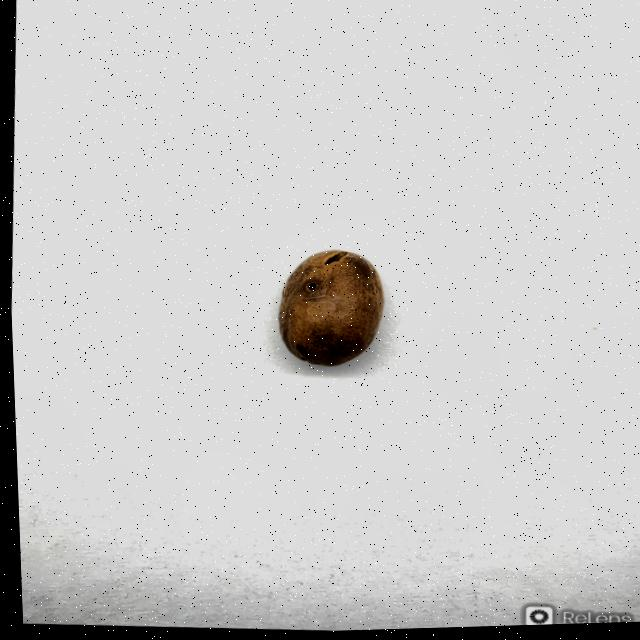Insect damage: (273, 249, 383, 370)
